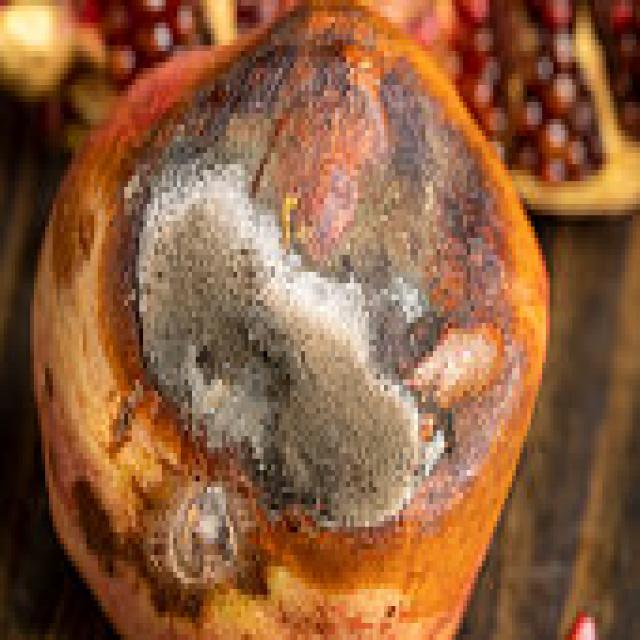Rotten: (31, 0, 548, 640)
